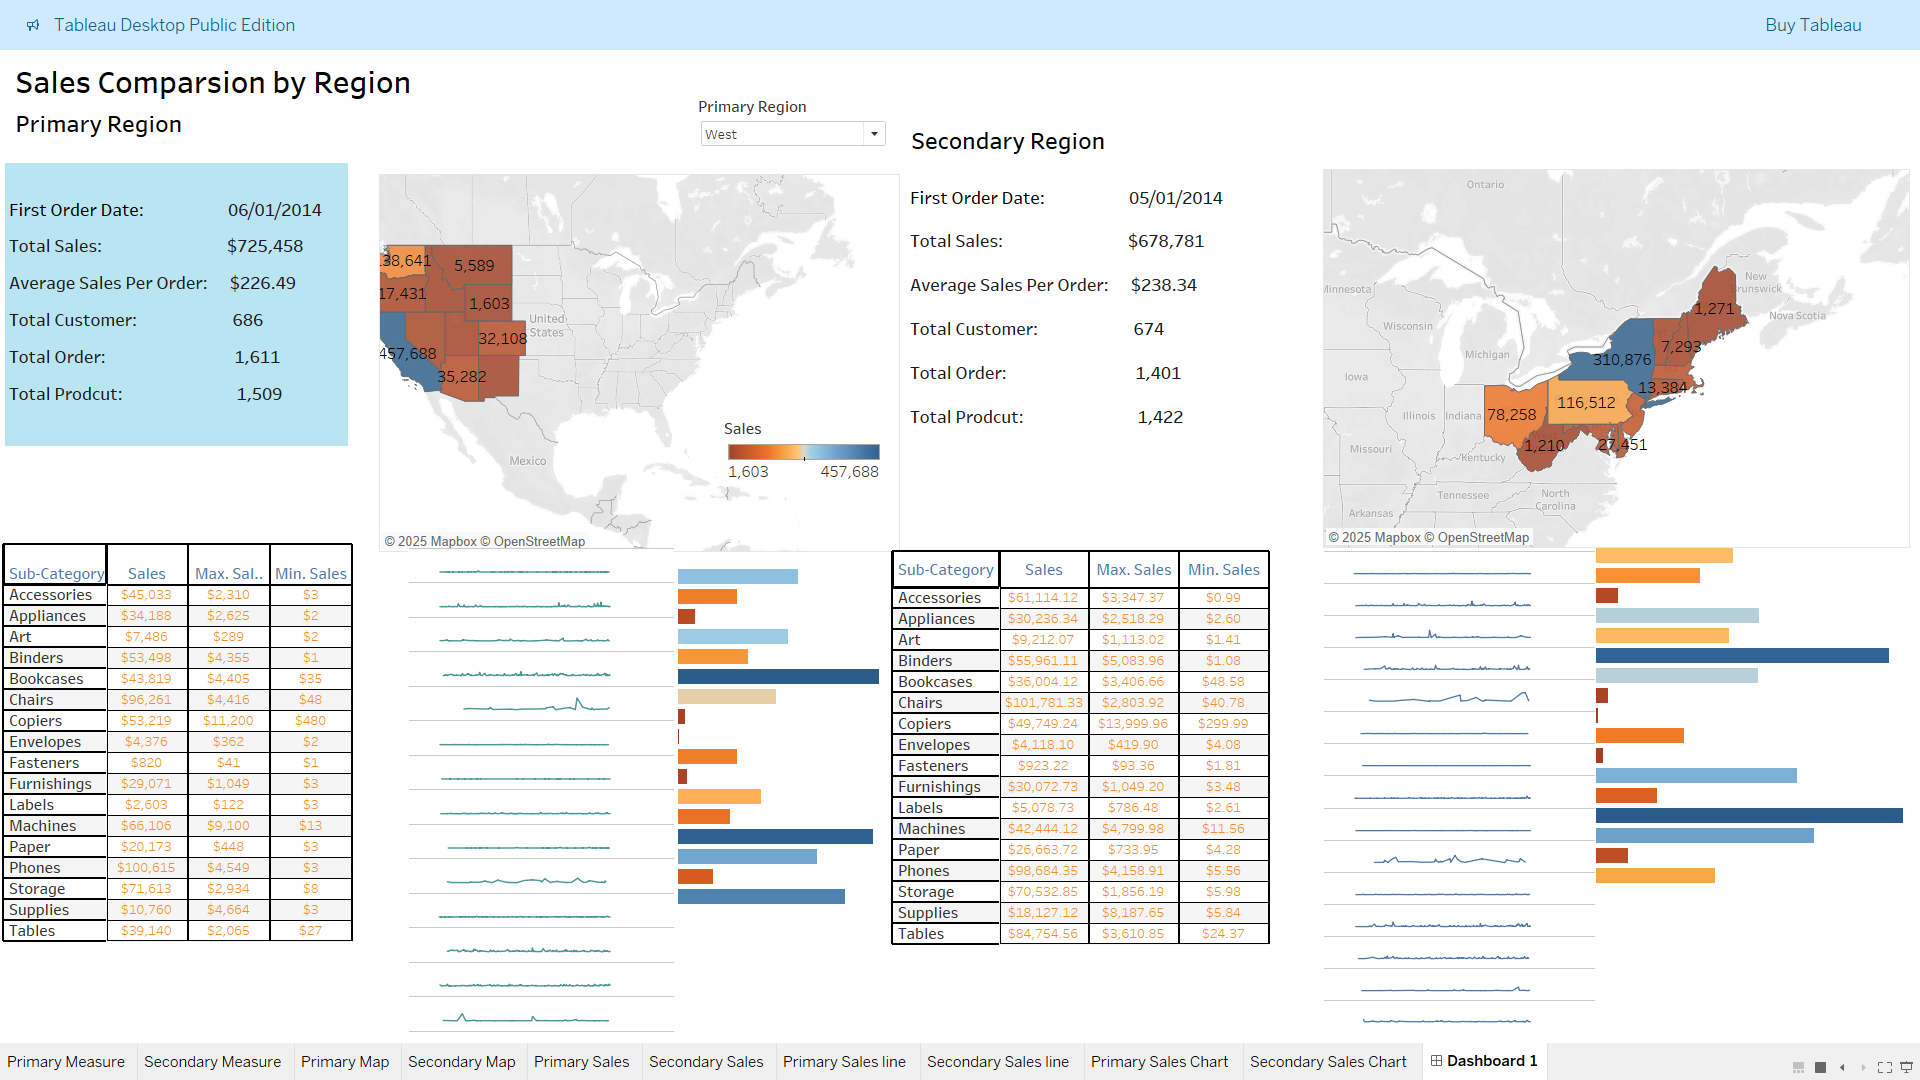

What the dashboard file says about the page in this screenshot:
{"tool":"tableau","page":{"name":"Dashboard 1","canvas":[1000,1000],"units":"permille","ordinal":0},"visuals":[{"type":"text","box":[4.8,10,990.3,56.2]},{"type":"filter","title":"Primary Map","param":"[federated.1kiomp1016qgq4127ceuf16atmok].[none:Region:nk]","box":[363.8,46.2,99.7,76.2]},{"type":"text","box":[4.8,66.2,990.3,49.9]},{"type":"text","box":[472.9,66.2,527.1,47.4]},{"type":"worksheet","title":"Primary Measure","mark":"Automatic","box":[2.4,113.6,229.6,423.2]},{"type":"worksheet","title":"Secondary Measure","mark":"Automatic","box":[471.9,113.6,250.2,494.4]},{"type":"worksheet","title":"Secondary Map","mark":"Automatic","box":[688.8,119.9,305.7,382]},{"type":"worksheet","title":"Primary Map","mark":"Automatic","box":[197.6,124.8,271.3,380.8]},{"type":"legend","title":"Primary Map","param":"[federated.1kiomp1016qgq4127ceuf16atmok].[sum:Sales:qk]","box":[377.3,370.8,83.2,109.9]},{"type":"worksheet","title":"Secondary Sales","mark":"Automatic","rows":["Sub-Category"],"box":[1.2,496.9,229,504.4]},{"type":"parameter","param":"[Parameters].[Parameter 1]","box":[829.6,496.9,170.4,69.9]},{"type":"worksheet","title":"Secondary Sales line","mark":"Automatic","rows":["Sub-Category","Sales"],"cols":["Order Date"],"box":[688.8,504.4,142,485.6]},{"type":"worksheet","title":"Primary Sales Chart","mark":"Automatic","rows":["Sub-Category"],"cols":["Sales"],"box":[350.4,515.6,114.8,439.4]},{"type":"filter","title":"Secondary Measure","param":"[federated.1kiomp1016qgq4127ceuf16atmok].[none:Region:nk]","box":[829.6,566.8,170.4,188.5]}]}

Visuals, with their boxes on the dashboard's canvas, which has no fixed pixel size, in thousandths of its width and height (x1, y1, x2, y2). These are canvas units, not pixel positions in the 1920x1080 screenshot, which may show the page scaled, cropped or inside an application window:
text: bbox=[5, 10, 995, 66]
"Primary Map" filter: bbox=[364, 46, 464, 122]
text: bbox=[5, 66, 995, 116]
text: bbox=[473, 66, 1000, 114]
"Primary Measure" worksheet: bbox=[2, 114, 232, 537]
"Secondary Measure" worksheet: bbox=[472, 114, 722, 608]
"Secondary Map" worksheet: bbox=[689, 120, 994, 502]
"Primary Map" worksheet: bbox=[198, 125, 469, 506]
"Primary Map" legend: bbox=[377, 371, 460, 481]
"Secondary Sales" worksheet: bbox=[1, 497, 230, 1001]
parameter: bbox=[830, 497, 1000, 567]
"Secondary Sales line" worksheet: bbox=[689, 504, 831, 990]
"Primary Sales Chart" worksheet: bbox=[350, 516, 465, 955]
"Secondary Measure" filter: bbox=[830, 567, 1000, 755]
